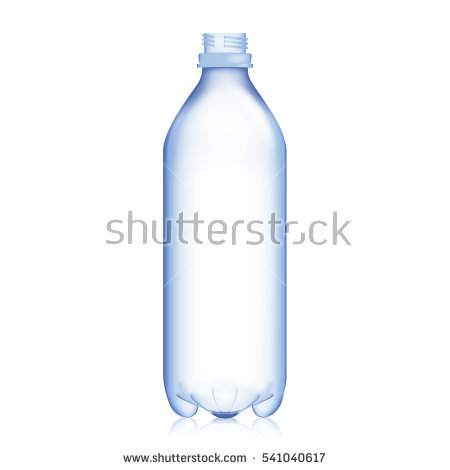emptybottle: (163, 33, 286, 418)
